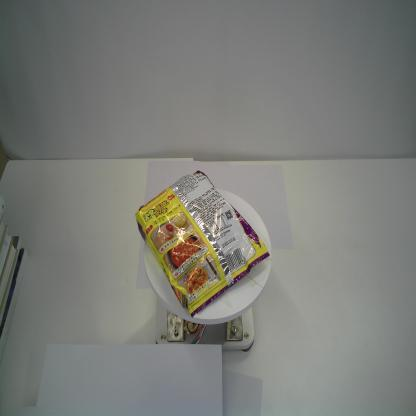Instant Noodles: (133, 170, 271, 321)
